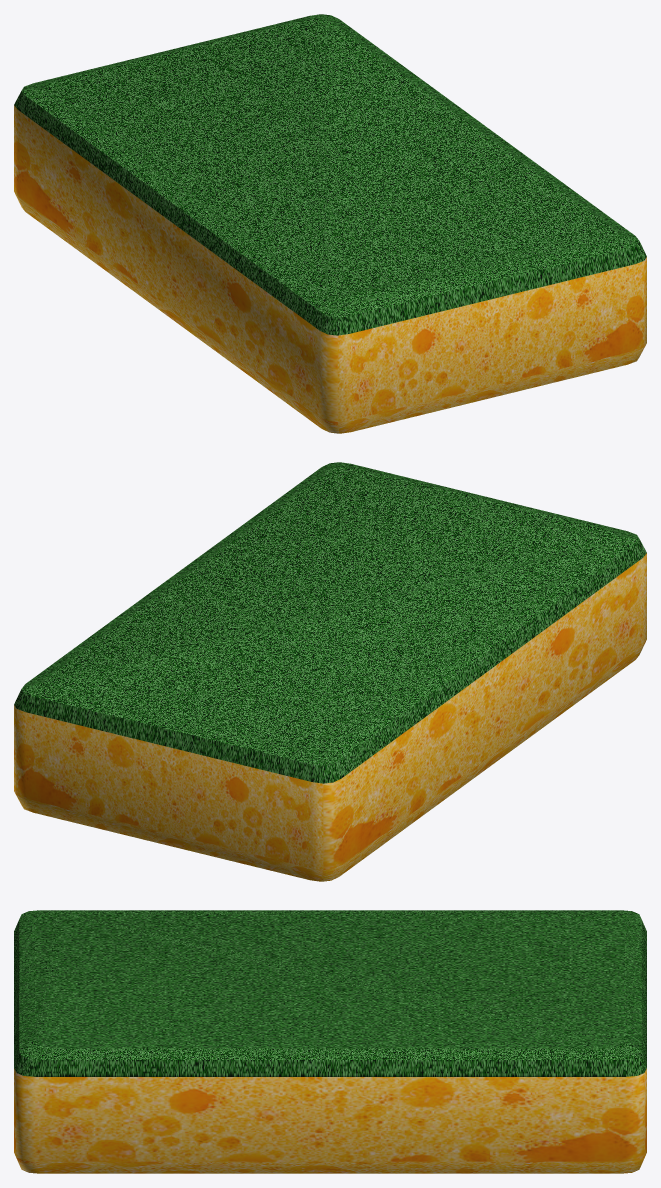
Rendered from Sponge.FBX.
3 views of the same model, one above another, from view 1: azimuth 30°, elevation 25°; view 2: azimuth 150°, elevation 25°; view 3: azimuth 270°, elevation 25° (orthographic). The views are drawn at different scales.
Visible parts, largest first — view 1: Sponge; view 2: Sponge; view 3: Sponge.
Boxes of the visible parts, x1,y1,x2,y2 form: Sponge: [14, 14, 646, 433]; Sponge: [14, 462, 646, 881]; Sponge: [14, 910, 646, 1173].
Size of the model in its own units: 5.77 by 2.15 by 10.
1 material, 1 textured.
